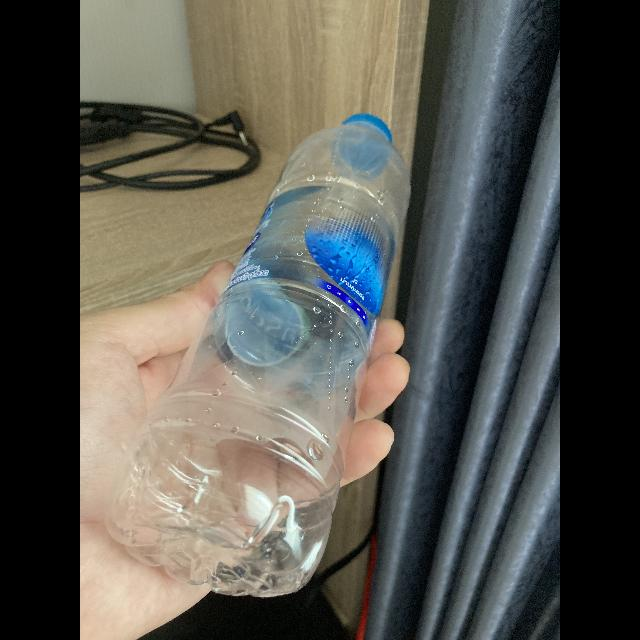plastic_bottle: (101, 109, 415, 597)
plastic_bottle_cap: (338, 114, 392, 176)
